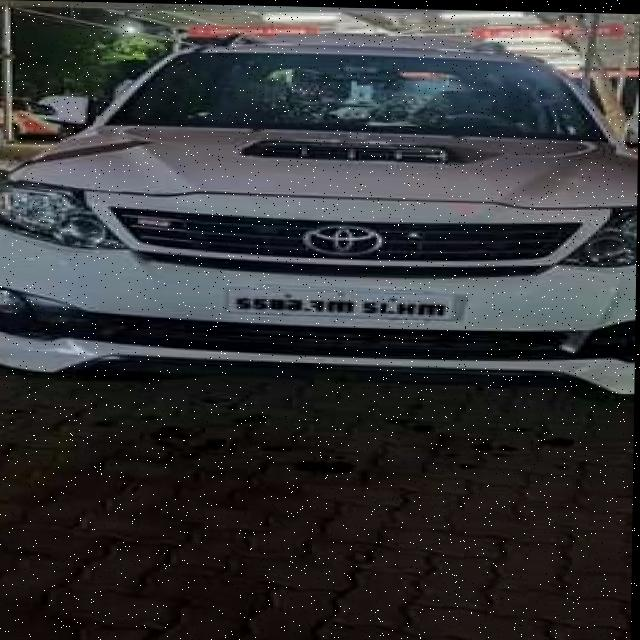plate: (227, 287, 456, 319)
